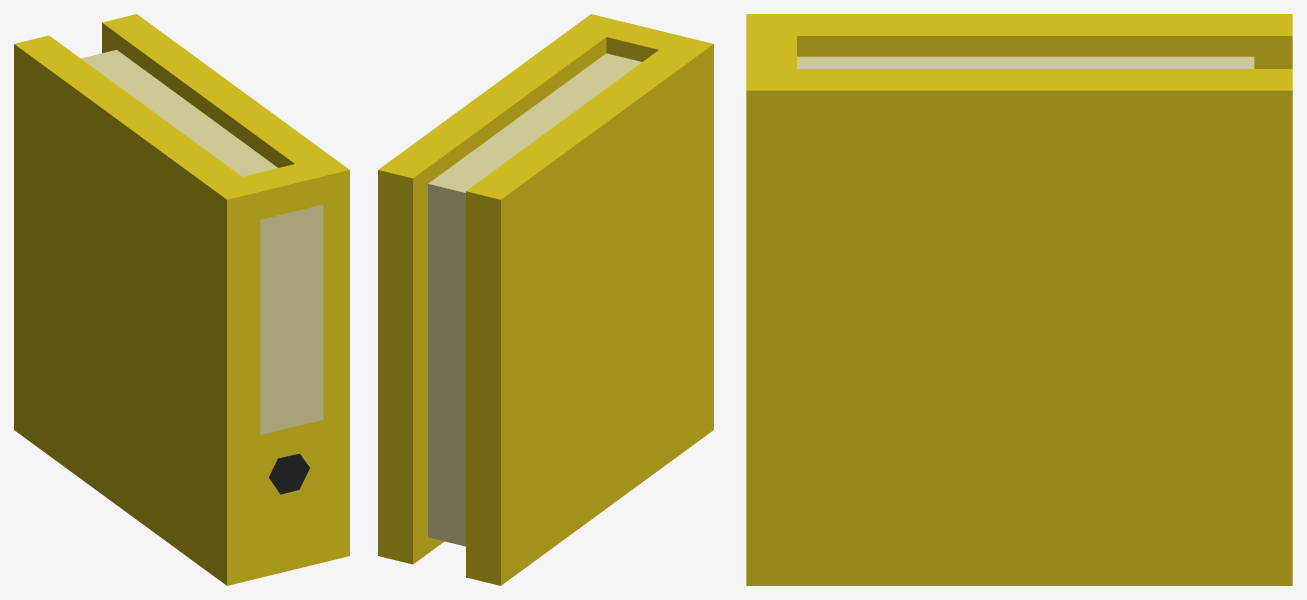
Rendered from YellowCarpet.fbx.
3 renders of one model, left to right at view 1: azimuth 30°, elevation 25°; view 2: azimuth 150°, elevation 25°; view 3: azimuth 270°, elevation 25°, orthographic. The views are drawn at different scales.
Parts seen in each view (by area): view 1: Cube.018; view 2: Cube.018; view 3: Cube.018.
Boxes of the visible parts, box(x1,y1,x2,y2) form: Cube.018: box(14, 14, 349, 585); Cube.018: box(378, 14, 713, 585); Cube.018: box(746, 14, 1292, 585).
Bounding box in the file's own units: 66.51 × 200 × 201.
